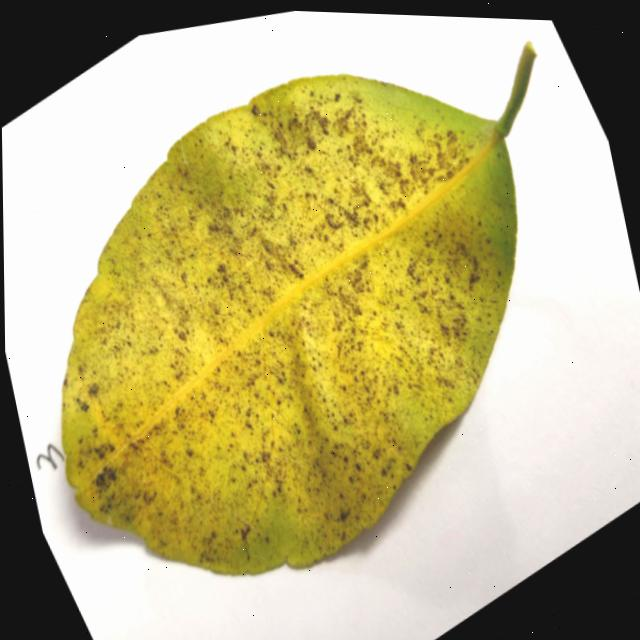melanose: (62, 45, 533, 573)
